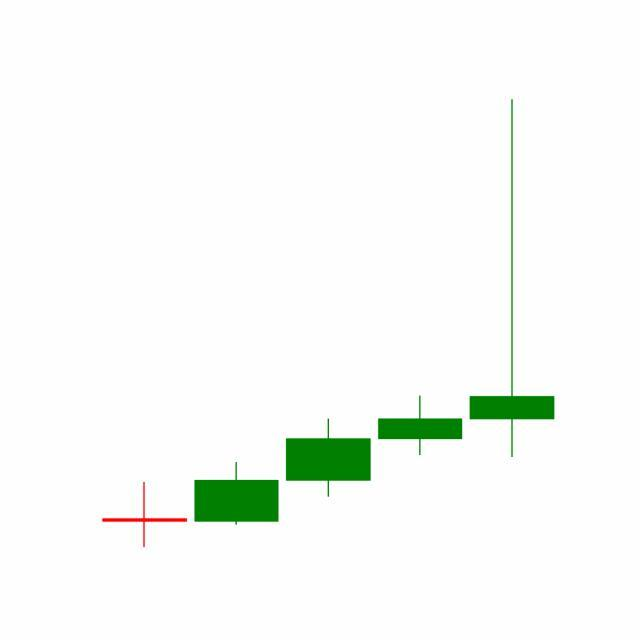Spinning Top: (466, 95, 559, 462)
